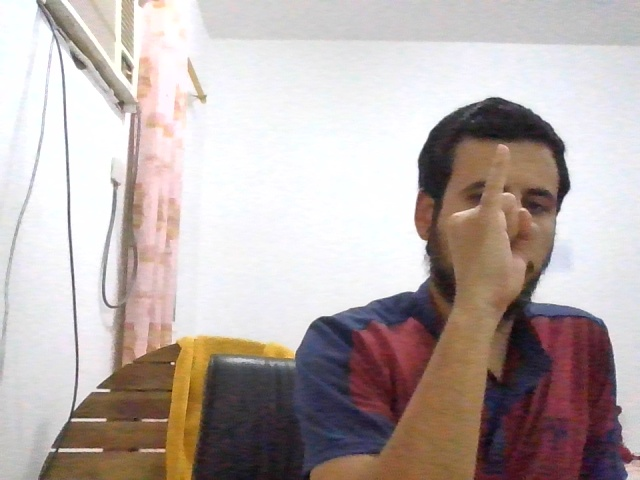One: (447, 145, 537, 300)
